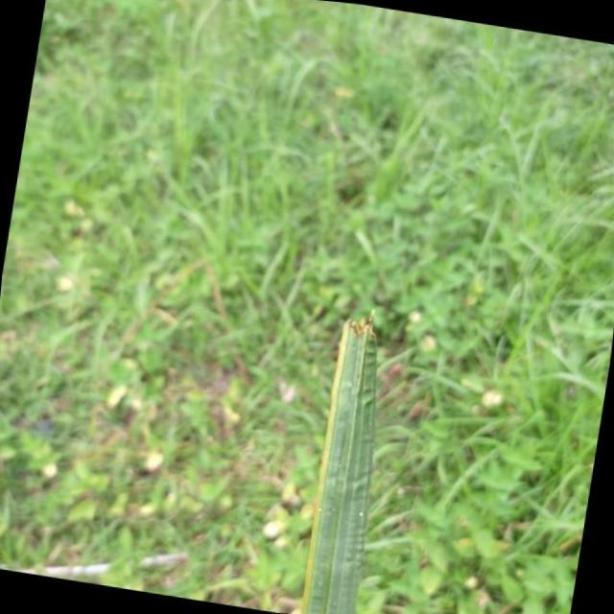Boron: (297, 312, 376, 614)
